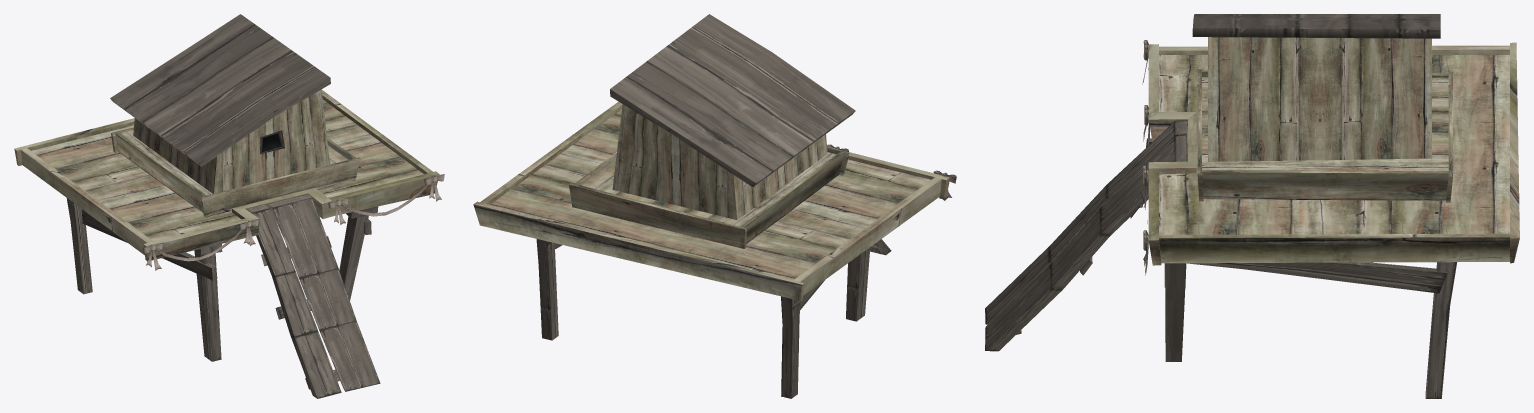
Rendered from shanty_npc_house_combo_D.fbx.
3 views of the same model, side by side, from view 1: azimuth 30°, elevation 25°; view 2: azimuth 150°, elevation 25°; view 3: azimuth 270°, elevation 25° (orthographic). The views are drawn at different scales.
Visible parts, largest first — view 1: penthouseroof4, pPlane13, second_floor_geo2, rightside, penthouse, balconyfloormain4, leftside, columnD, columnC, columnA, columnsupport.001, bow_left (+3 smaller); view 2: penthouseroof4, pPlane13, second_floor_geo2, penthouse, balconyfloormain4, pPlane18, columnC, columnB, columnD; view 3: penthouse, pPlane13, second_floor_geo2, balconyfloormain4, rightside, penthouseroof4, pPlane18, columnsupport, leftside, columnB, columnA.
Boxes of the visible parts, x1=… form: penthouseroof4: x1=110, y1=14, x2=330, y2=166; pPlane13: x1=31, y1=99, x2=423, y2=241; second_floor_geo2: x1=14, y1=90, x2=439, y2=261; rightside: x1=268, y1=194, x2=380, y2=391; penthouse: x1=133, y1=89, x2=329, y2=193; balconyfloormain4: x1=111, y1=127, x2=360, y2=217; leftside: x1=246, y1=204, x2=341, y2=398; columnD: x1=194, y1=250, x2=221, y2=361; columnC: x1=66, y1=198, x2=92, y2=294; columnA: x1=339, y1=215, x2=368, y2=300; columnsupport.001: x1=81, y1=209, x2=217, y2=280; bow_left: x1=142, y1=219, x2=258, y2=270; penthouseroof4: x1=610, y1=14, x2=855, y2=187; pPlane13: x1=490, y1=109, x2=930, y2=279; second_floor_geo2: x1=473, y1=101, x2=950, y2=301; penthouse: x1=612, y1=104, x2=827, y2=219; balconyfloormain4: x1=569, y1=146, x2=849, y2=248; pPlane18: x1=582, y1=152, x2=836, y2=226; columnC: x1=781, y1=296, x2=800, y2=398; columnB: x1=536, y1=239, x2=558, y2=340; columnD: x1=846, y1=247, x2=870, y2=321; penthouse: x1=1208, y1=37, x2=1431, y2=161; pPlane13: x1=1159, y1=55, x2=1509, y2=234; second_floor_geo2: x1=1148, y1=42, x2=1519, y2=265; balconyfloormain4: x1=1197, y1=69, x2=1453, y2=202; rightside: x1=985, y1=135, x2=1187, y2=351; penthouseroof4: x1=1192, y1=14, x2=1440, y2=38; pPlane18: x1=1202, y1=77, x2=1448, y2=170; columnsupport: x1=1187, y1=262, x2=1447, y2=293; leftside: x1=985, y1=120, x2=1187, y2=324; columnB: x1=1425, y1=262, x2=1457, y2=398; columnA: x1=1165, y1=263, x2=1186, y2=361.
Size of the model in its own units: 3839 by 2982 by 4250.
3 materials, 3 textured.
